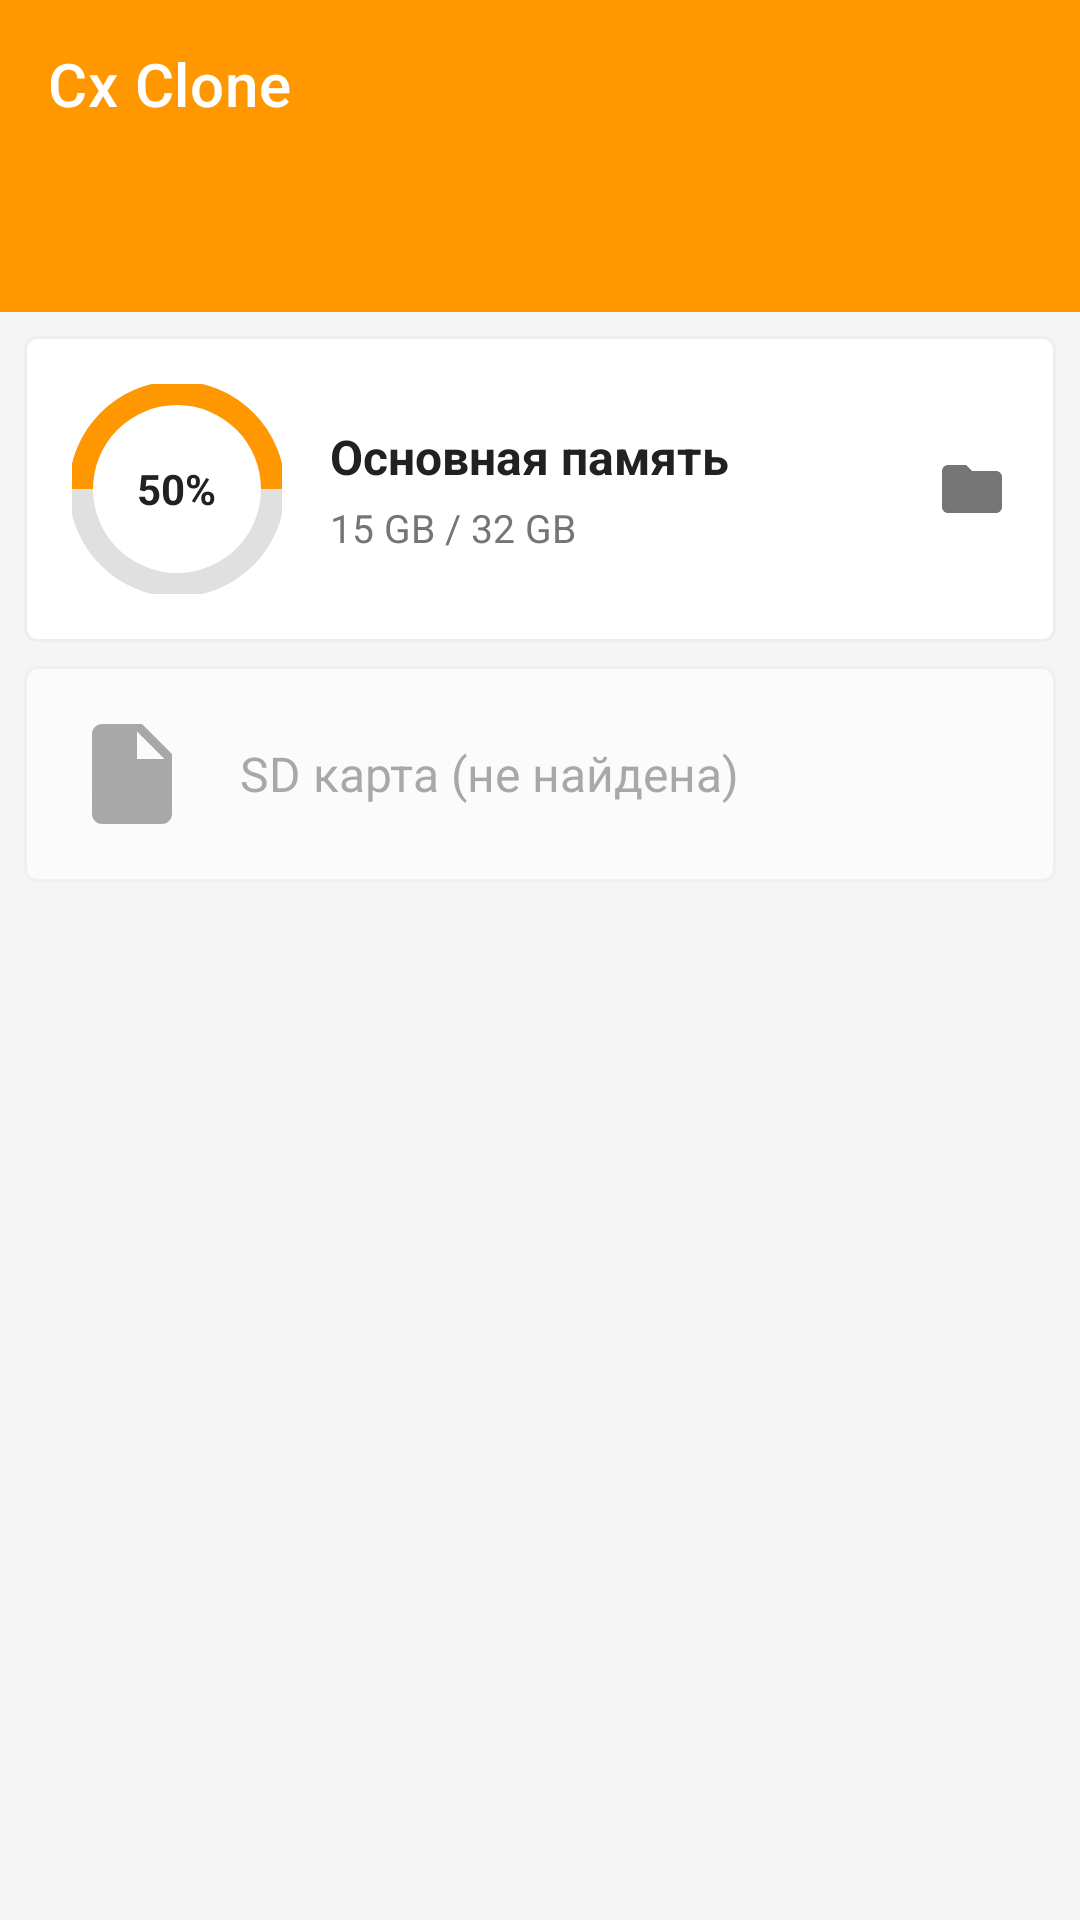

Icon click points for this 1080x1920 phone screenshot, format point (x, y):
file cx: point (132, 774)
folder cx: point (972, 489)
